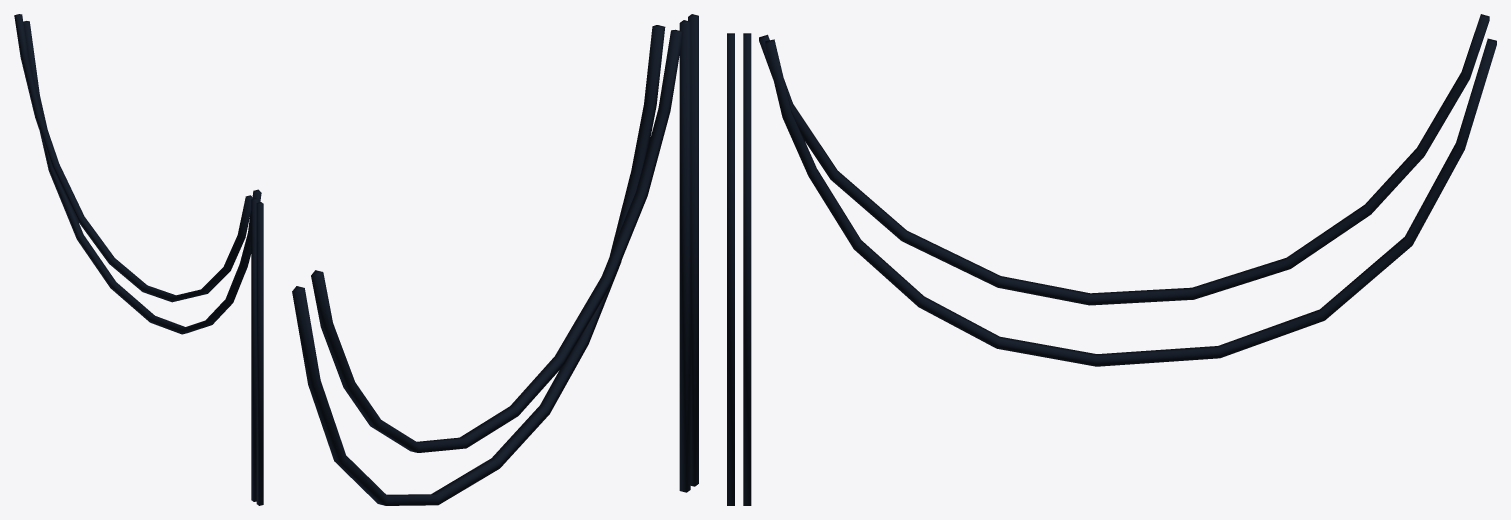
File: SM_BWires_03.fbx
3 renders of one model, left to right at view 1: azimuth 30°, elevation 25°; view 2: azimuth 150°, elevation 25°; view 3: azimuth 270°, elevation 25°, orthographic. The views are drawn at different scales.
Parts seen in each view (by area): view 1: SM_BWires_03; view 2: SM_BWires_03; view 3: SM_BWires_03.
Boxes of the visible parts, x1,y1,x2,y2 form: SM_BWires_03: (14, 14, 263, 505); SM_BWires_03: (292, 14, 698, 505); SM_BWires_03: (727, 14, 1496, 505).
Bounding box in the file's own units: 3.96 × 79.27 × 113.
